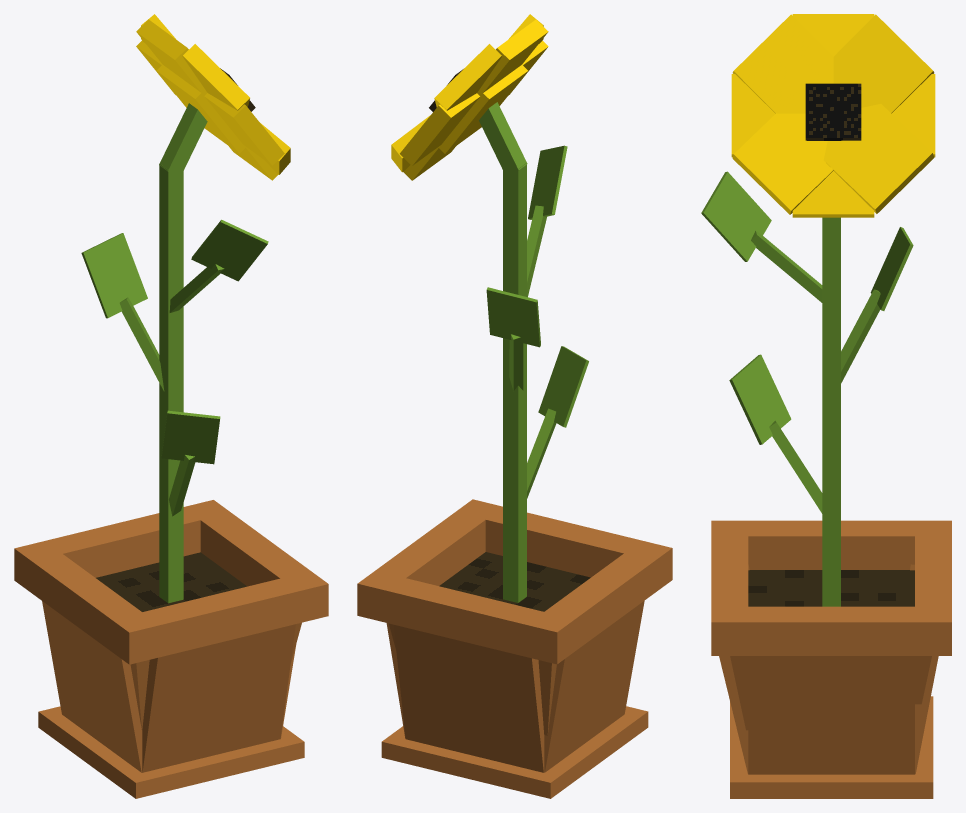
File: sunflower.gltf
3 renders of one model, left to right at view 1: azimuth 30°, elevation 25°; view 2: azimuth 150°, elevation 25°; view 3: azimuth 270°, elevation 25°, orthographic. The views are drawn at different scales.
Parts seen in each view (by area): view 1: c386d314-3f14-a0c6-fb75-f23cae18e5c2, 672104b6-c339-0f69-8119-120f28f9a933, 2f95a8cc-bbbc-db35-044c-f79740e91d66, 333c50d1-6a4a-8e58-b46b-c3d28cb64dc6, 06aabd16-3349-5bdf-8498-73f4c8db711b, c23cc15e-de04-6b69-7557-495be05f0663, ddc9255b-4930-0156-4b30-767f436a6501, 003d9cf4-38b9-7fdf-0eeb-8ae42016a5ac, 9e5a5c5c-ea0d-2c0c-b306-363fd2e89859, 3b1a7608-53c4-af62-febc-fd05c231e23b, 3d3684a8-469f-cd9f-9ad0-0c3af5637bec, 923728d6-7e14-abfe-4ef2-f1e9526024a1 (+9 smaller); view 2: 8da8971f-34cf-860c-c80f-5ca8d388a872, 2f95a8cc-bbbc-db35-044c-f79740e91d66, 333c50d1-6a4a-8e58-b46b-c3d28cb64dc6, ddc9255b-4930-0156-4b30-767f436a6501, c23cc15e-de04-6b69-7557-495be05f0663, 06aabd16-3349-5bdf-8498-73f4c8db711b, 003d9cf4-38b9-7fdf-0eeb-8ae42016a5ac, 672104b6-c339-0f69-8119-120f28f9a933, 9e5a5c5c-ea0d-2c0c-b306-363fd2e89859, 3b1a7608-53c4-af62-febc-fd05c231e23b, 08eeee49-d1c8-8403-e501-237fbcf2336f, fb4f10db-031a-c53a-c5c2-0aac2ff49b2d (+10 smaller); view 3: f6d80f8a-b22c-4a03-d54f-698e41473893, 003d9cf4-38b9-7fdf-0eeb-8ae42016a5ac, c23cc15e-de04-6b69-7557-495be05f0663, 2f95a8cc-bbbc-db35-044c-f79740e91d66, 06aabd16-3349-5bdf-8498-73f4c8db711b, 0cba9fad-0adc-b3a2-8696-2442c2e0c0a3, 70e2d5b8-fb36-3673-6394-4382a56b1b57, 6e9d4138-4100-a9bb-bcc9-680ca79e0740, 5e36d5f6-5c8c-c5db-3223-4b51d02703ab, 9e5a5c5c-ea0d-2c0c-b306-363fd2e89859, 08eeee49-d1c8-8403-e501-237fbcf2336f, fb4f10db-031a-c53a-c5c2-0aac2ff49b2d (+13 smaller).
Part boxes in pixels (x1=…): c386d314-3f14-a0c6-fb75-f23cae18e5c2: x1=142, y1=624, x2=295, y2=772; 672104b6-c339-0f69-8119-120f28f9a933: x1=112, y1=571, x2=328, y2=664; 2f95a8cc-bbbc-db35-044c-f79740e91d66: x1=159, y1=163, x2=183, y2=603; 333c50d1-6a4a-8e58-b46b-c3d28cb64dc6: x1=42, y1=601, x2=142, y2=772; 06aabd16-3349-5bdf-8498-73f4c8db711b: x1=38, y1=706, x2=304, y2=798; c23cc15e-de04-6b69-7557-495be05f0663: x1=14, y1=541, x2=159, y2=664; ddc9255b-4930-0156-4b30-767f436a6501: x1=14, y1=500, x2=230, y2=587; 003d9cf4-38b9-7fdf-0eeb-8ae42016a5ac: x1=183, y1=500, x2=328, y2=619; 9e5a5c5c-ea0d-2c0c-b306-363fd2e89859: x1=96, y1=552, x2=246, y2=611; 3b1a7608-53c4-af62-febc-fd05c231e23b: x1=81, y1=233, x2=147, y2=318; 3d3684a8-469f-cd9f-9ad0-0c3af5637bec: x1=191, y1=219, x2=268, y2=281; 923728d6-7e14-abfe-4ef2-f1e9526024a1: x1=161, y1=410, x2=220, y2=464; 8da8971f-34cf-860c-c80f-5ca8d388a872: x1=393, y1=625, x2=544, y2=772; 2f95a8cc-bbbc-db35-044c-f79740e91d66: x1=503, y1=162, x2=526, y2=602; 333c50d1-6a4a-8e58-b46b-c3d28cb64dc6: x1=544, y1=601, x2=644, y2=772; ddc9255b-4930-0156-4b30-767f436a6501: x1=357, y1=578, x2=573, y2=664; c23cc15e-de04-6b69-7557-495be05f0663: x1=527, y1=547, x2=672, y2=664; 06aabd16-3349-5bdf-8498-73f4c8db711b: x1=381, y1=706, x2=648, y2=798; 003d9cf4-38b9-7fdf-0eeb-8ae42016a5ac: x1=357, y1=499, x2=502, y2=622; 672104b6-c339-0f69-8119-120f28f9a933: x1=466, y1=499, x2=672, y2=580; 9e5a5c5c-ea0d-2c0c-b306-363fd2e89859: x1=439, y1=552, x2=590, y2=611; 3b1a7608-53c4-af62-febc-fd05c231e23b: x1=486, y1=287, x2=540, y2=347; 08eeee49-d1c8-8403-e501-237fbcf2336f: x1=403, y1=19, x2=548, y2=180; fb4f10db-031a-c53a-c5c2-0aac2ff49b2d: x1=400, y1=40, x2=548, y2=165; f6d80f8a-b22c-4a03-d54f-698e41473893: x1=748, y1=656, x2=914, y2=774; 003d9cf4-38b9-7fdf-0eeb-8ae42016a5ac: x1=711, y1=606, x2=951, y2=655; c23cc15e-de04-6b69-7557-495be05f0663: x1=711, y1=520, x2=951, y2=569; 2f95a8cc-bbbc-db35-044c-f79740e91d66: x1=822, y1=217, x2=840, y2=606; 06aabd16-3349-5bdf-8498-73f4c8db711b: x1=730, y1=696, x2=933, y2=798; 0cba9fad-0adc-b3a2-8696-2442c2e0c0a3: x1=823, y1=104, x2=934, y2=213; 70e2d5b8-fb36-3673-6394-4382a56b1b57: x1=732, y1=113, x2=833, y2=214; 6e9d4138-4100-a9bb-bcc9-680ca79e0740: x1=732, y1=14, x2=833, y2=113; 5e36d5f6-5c8c-c5db-3223-4b51d02703ab: x1=833, y1=14, x2=934, y2=113; 9e5a5c5c-ea0d-2c0c-b306-363fd2e89859: x1=748, y1=570, x2=914, y2=606; 08eeee49-d1c8-8403-e501-237fbcf2336f: x1=792, y1=14, x2=874, y2=217; fb4f10db-031a-c53a-c5c2-0aac2ff49b2d: x1=731, y1=74, x2=935, y2=157.
Bounding box in the file's own units: 0.8241 × 2.77 × 0.8474.
5 materials, 5 textured.
